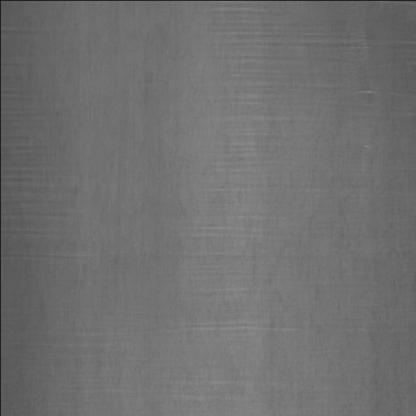waist_folding: (0, 19, 377, 362)
